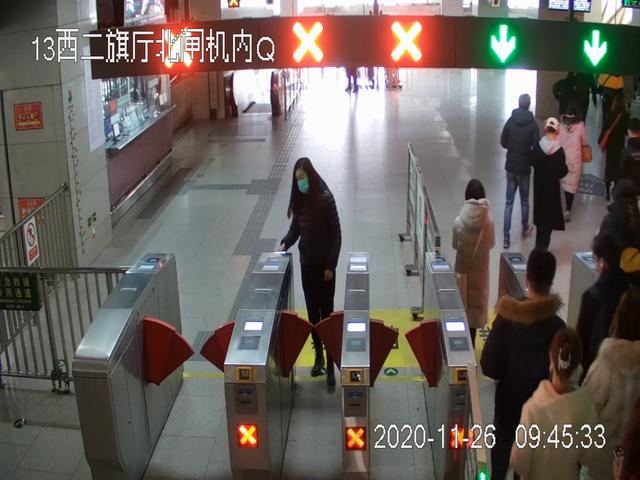person: (481, 251, 571, 480), (506, 335, 611, 480), (279, 157, 343, 393), (452, 178, 495, 354), (527, 115, 568, 266), (499, 93, 538, 249), (554, 108, 591, 218)
